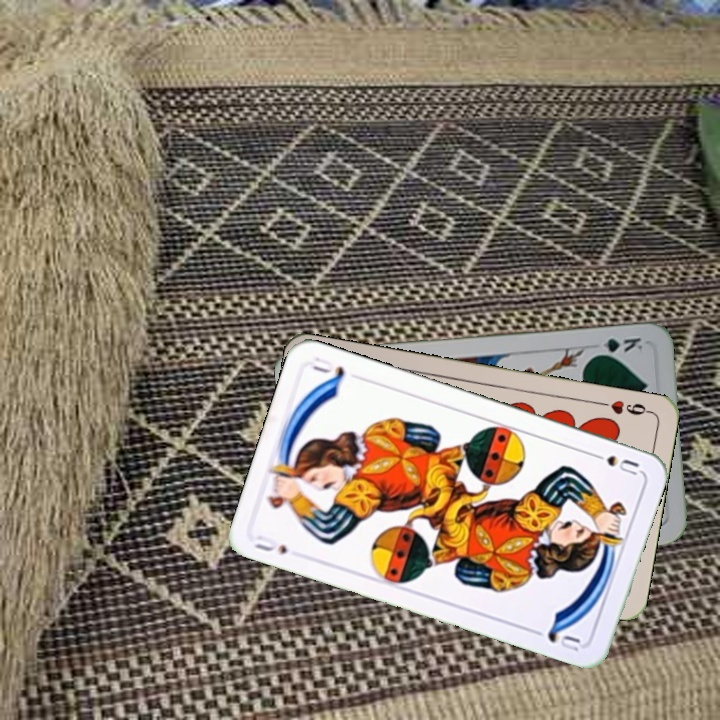GK: (589, 333, 646, 358)
H9: (594, 396, 653, 418)
SU: (585, 448, 642, 478), (250, 531, 290, 557)
